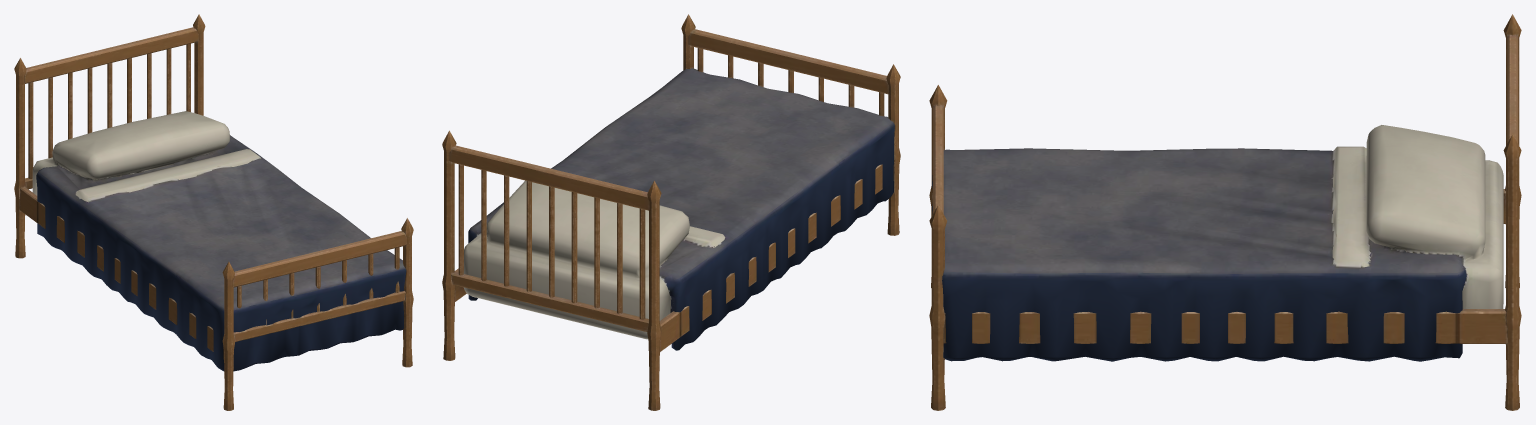
File: bed_single.glb
3 views of the same model, side by side, from view 1: azimuth 30°, elevation 25°; view 2: azimuth 150°, elevation 25°; view 3: azimuth 270°, elevation 25° (orthographic). The views are drawn at different scales.
Visible parts, largest first — view 1: bed_single; view 2: bed_single; view 3: bed_single.
Part boxes in pixels (left/top/right/bottom): bed_single: left=14, top=14, right=413, bottom=410; bed_single: left=442, top=14, right=900, bottom=410; bed_single: left=929, top=14, right=1521, bottom=410.
Size of the model in its own units: 1.01 by 1.01 by 1.98.
Materials: 1 (1 with a texture image).
